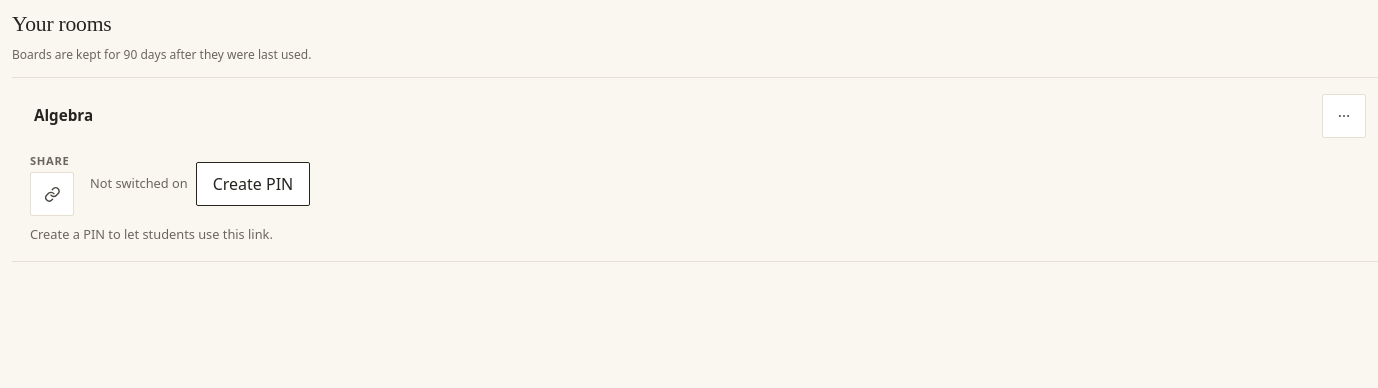
Scenario: TeacherRoomList states › moves focus into a row menu and returns it to the kebab on Escape (UX-A5)
Click the button with test id "whiteboard-room-menu-room-alpha". click: [1344, 116]
box: [1322,94,1366,138]
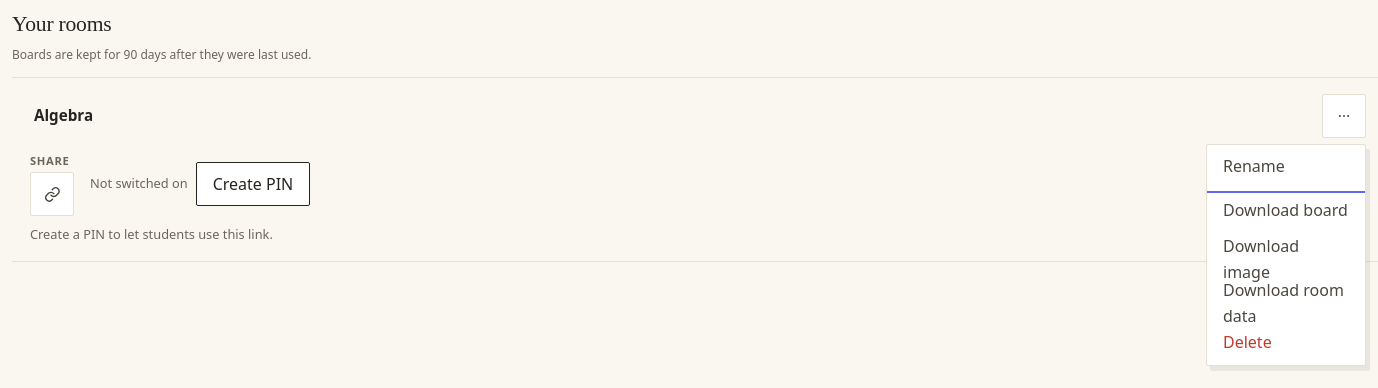
Press Arrowdown
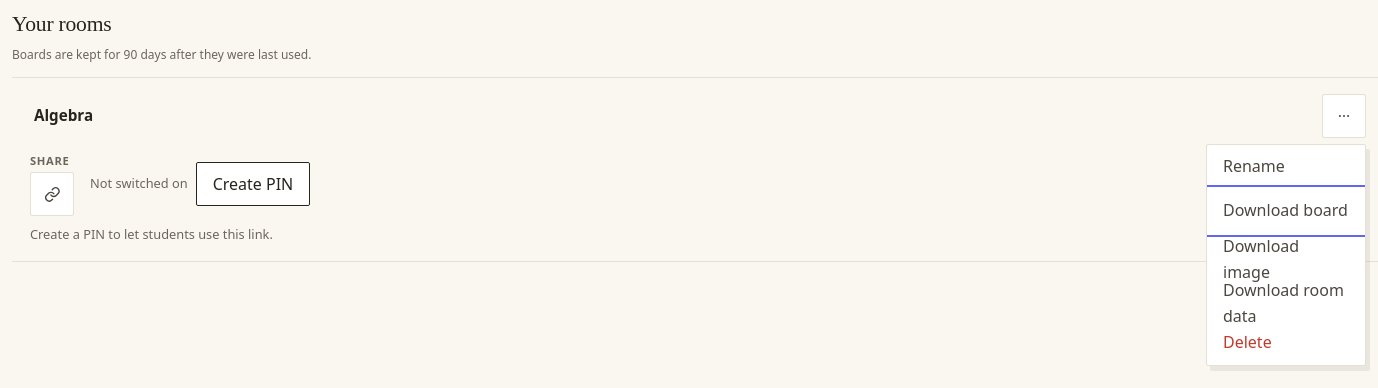
Press End
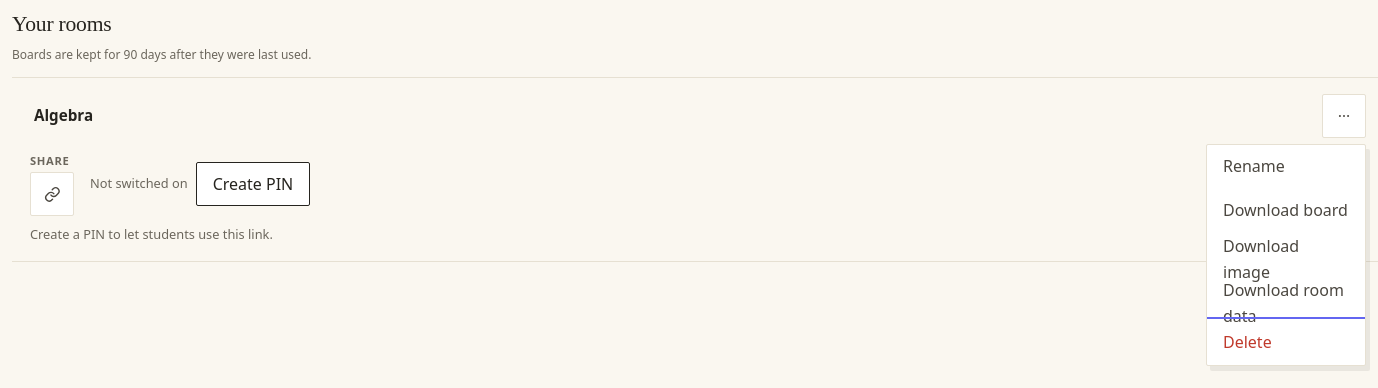
Press Home
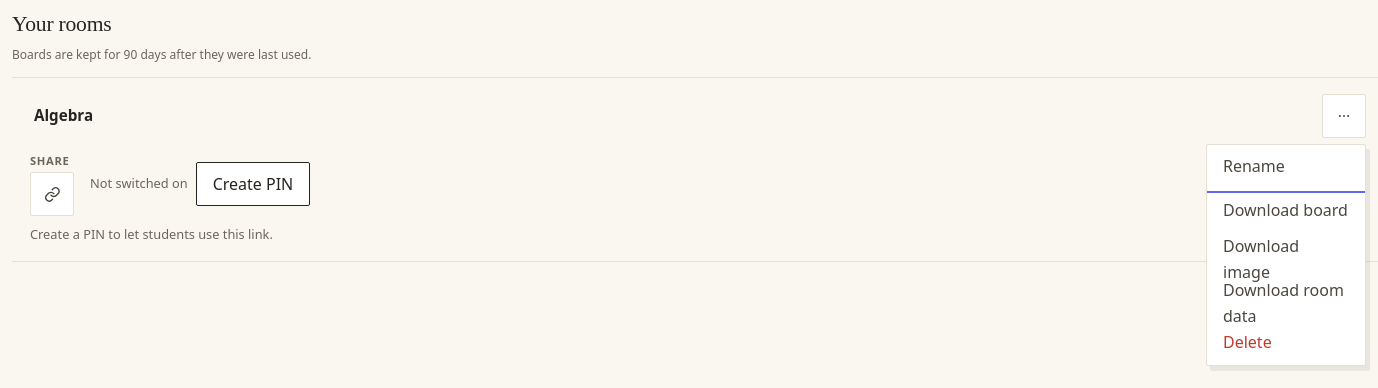
Press Arrowup
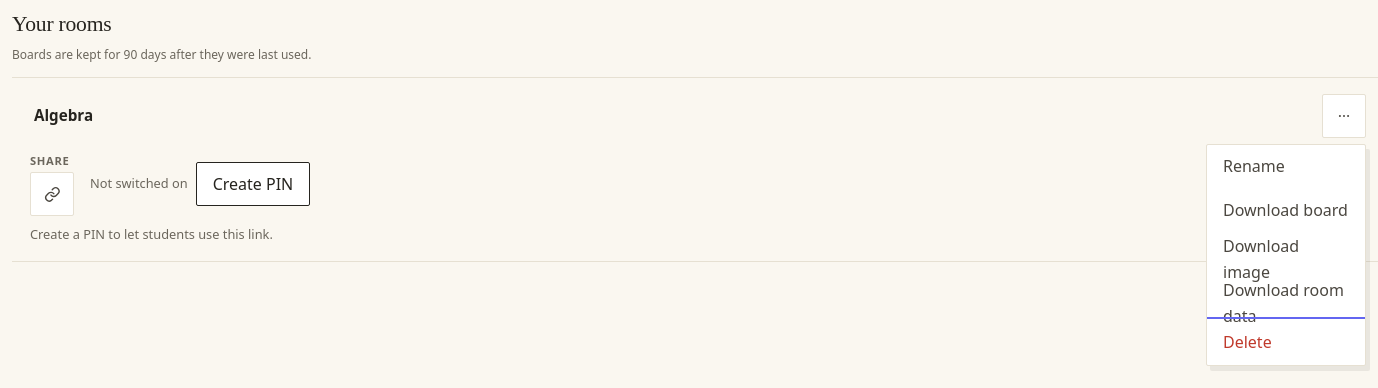
Press Escape
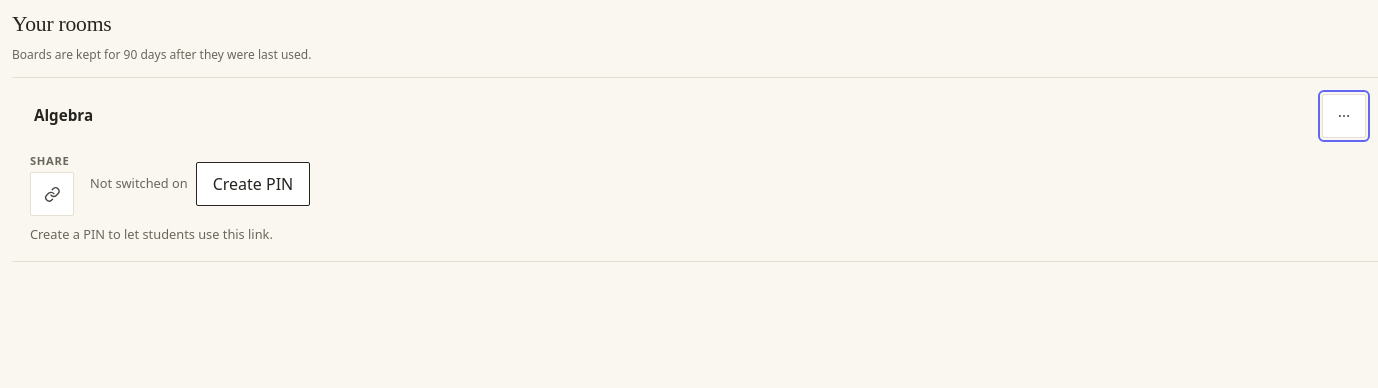
Now the menu is gone
